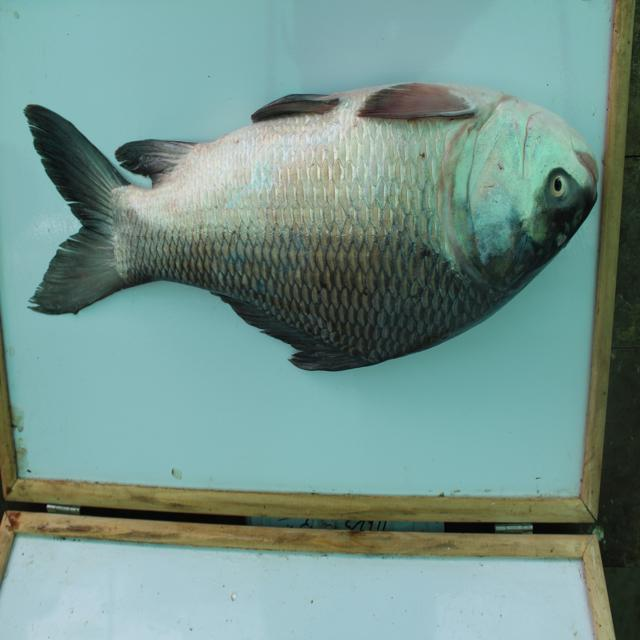Catla: (12, 78, 603, 374)
